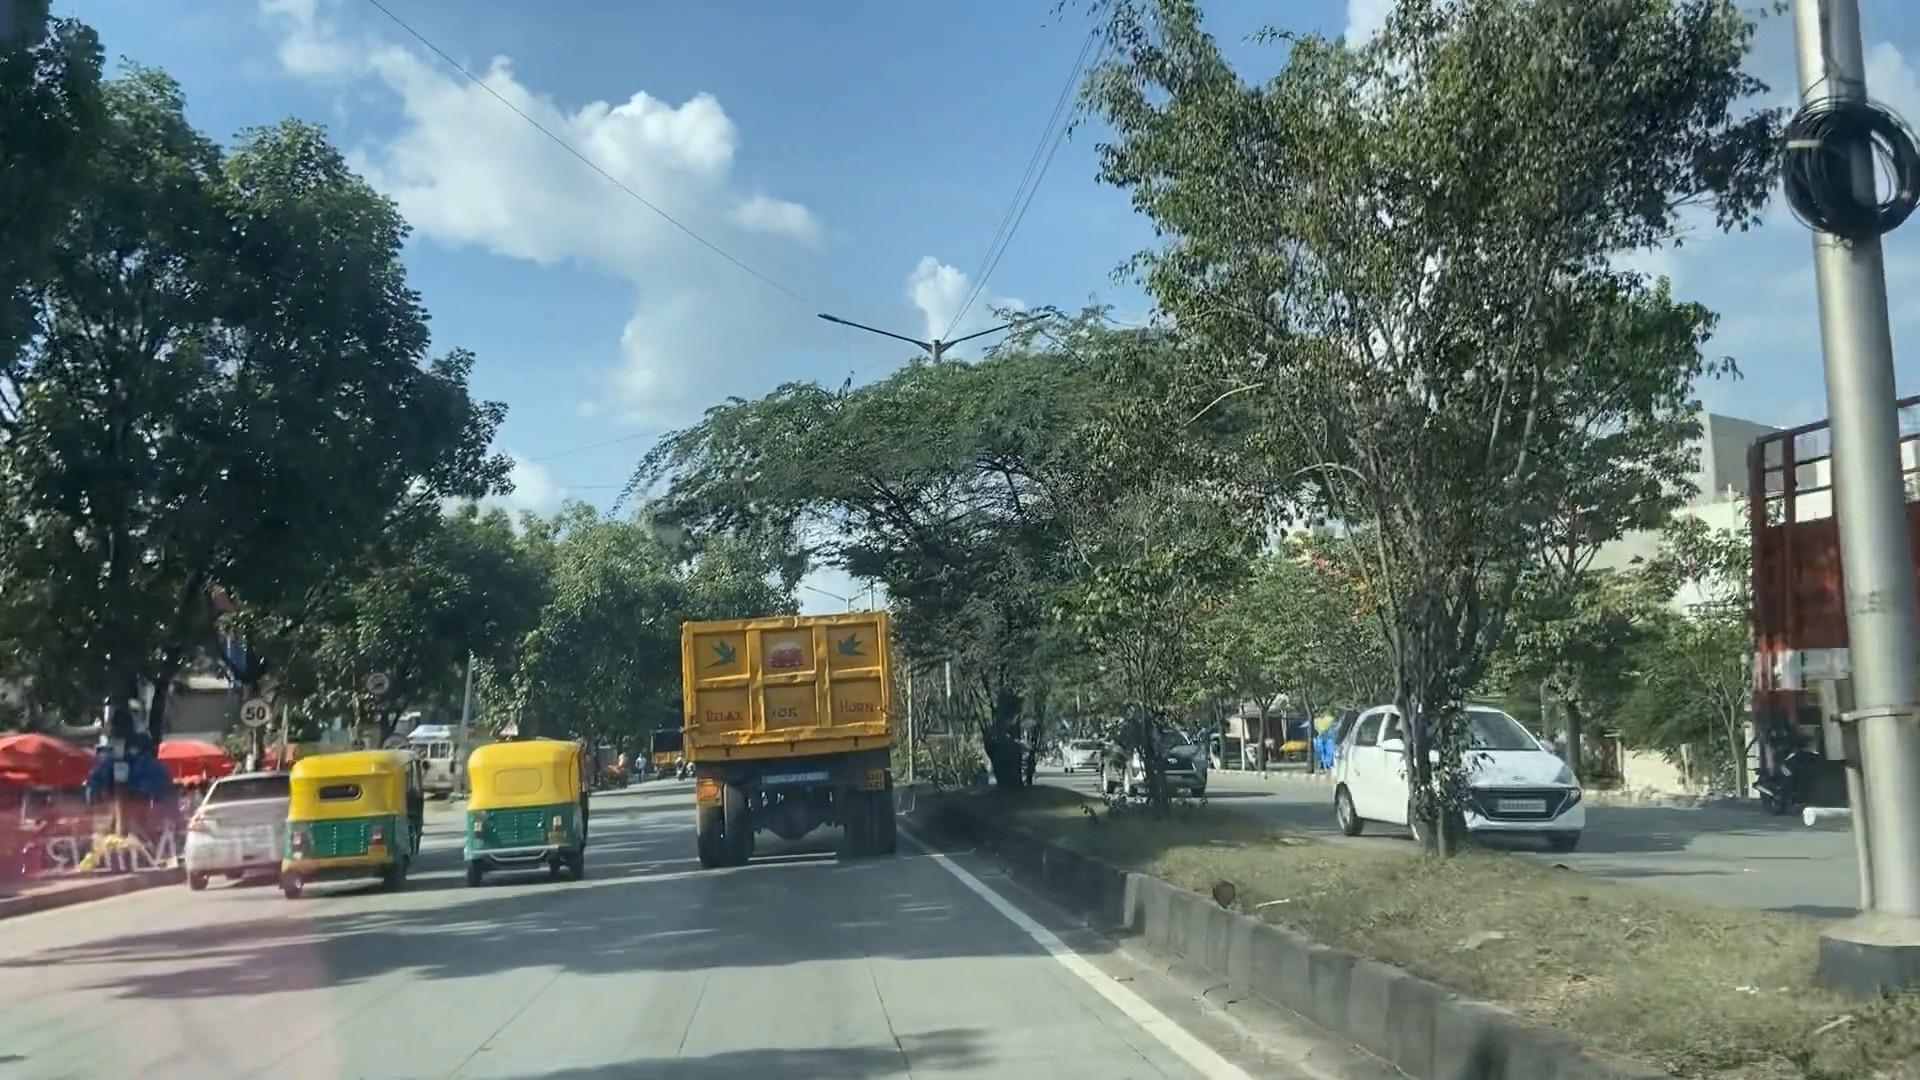HMV: (670, 604, 906, 856)
LMV: (281, 740, 443, 894), (462, 738, 597, 887)
